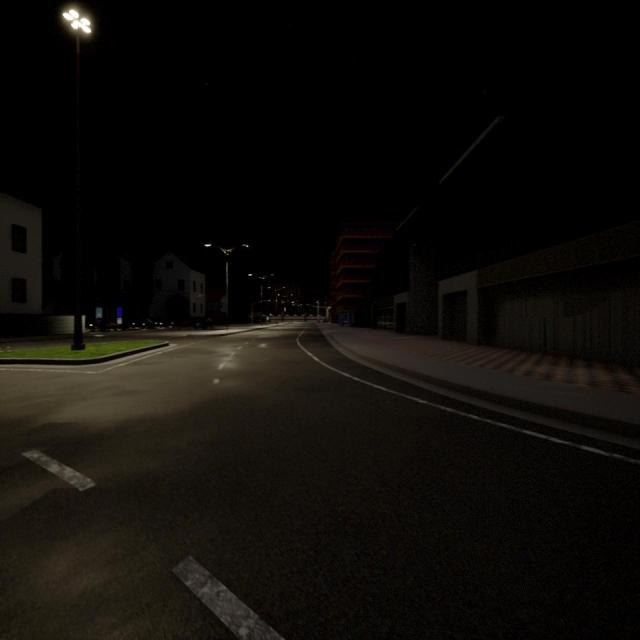Vehicle: (196, 319, 213, 329)
